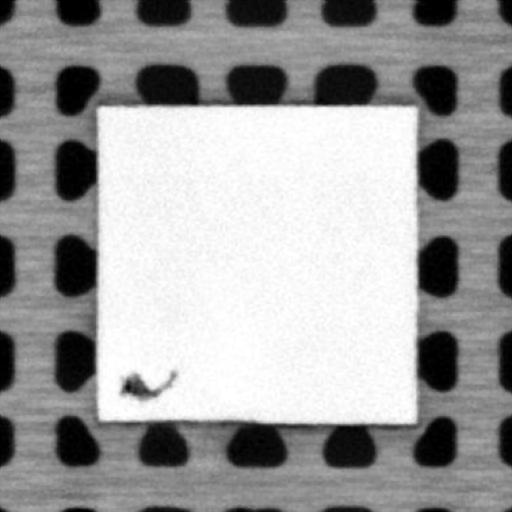DIE_INK: (118, 368, 181, 402)
